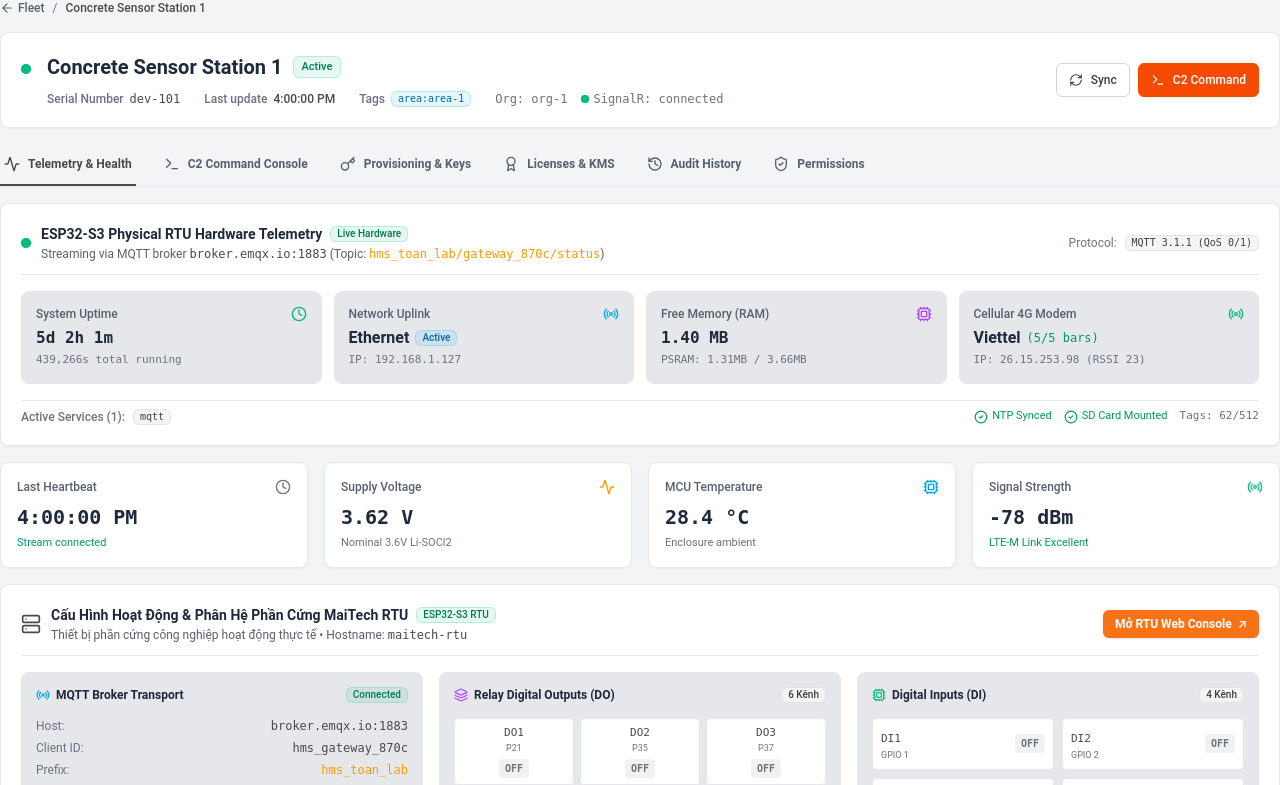
it: DeviceDetailView › switches between tabs when navigation is clicked
Click the button with test id "tab-commands".
click(236, 165)  # box [160,144,312,186]
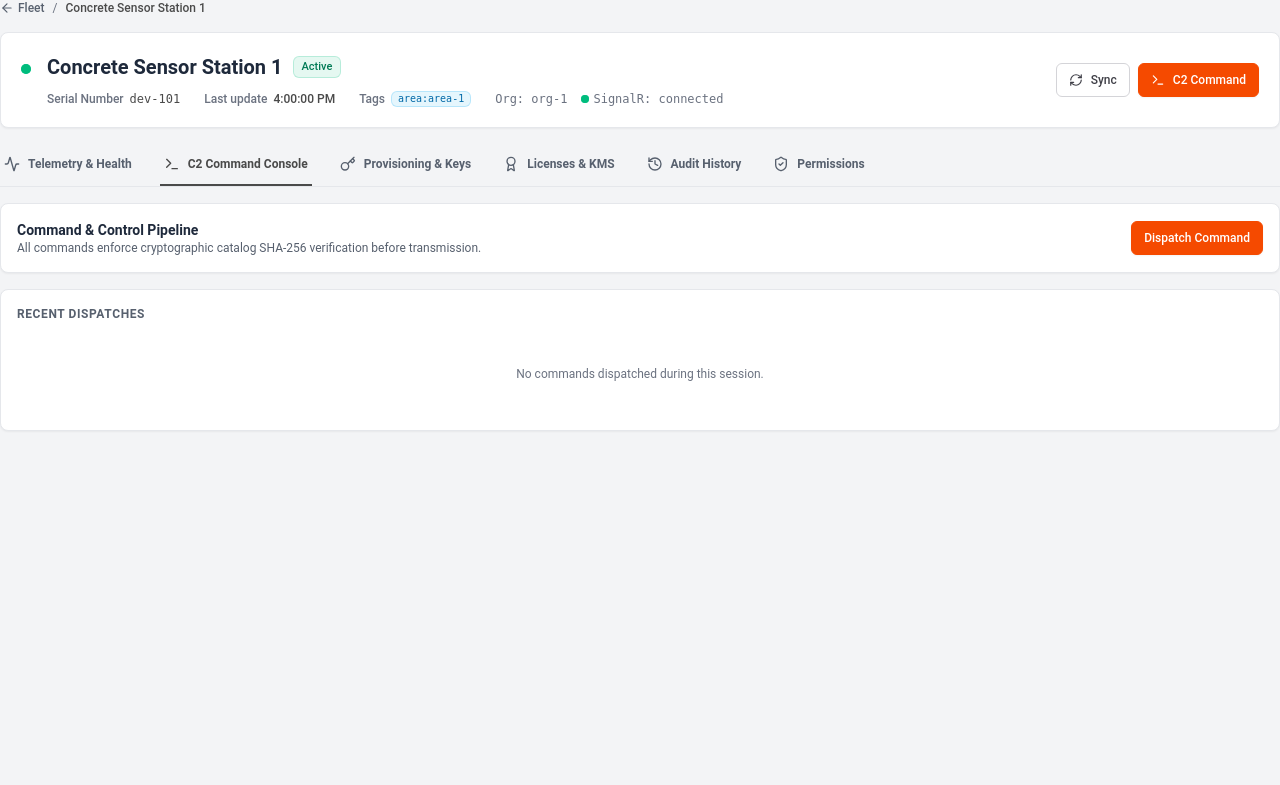
Expected: the text "Command & Control Pipeline" is shown, [17,222,198,238]
Click the button with test id "tab-provisioning".
click(406, 165)  # box [336,144,475,186]
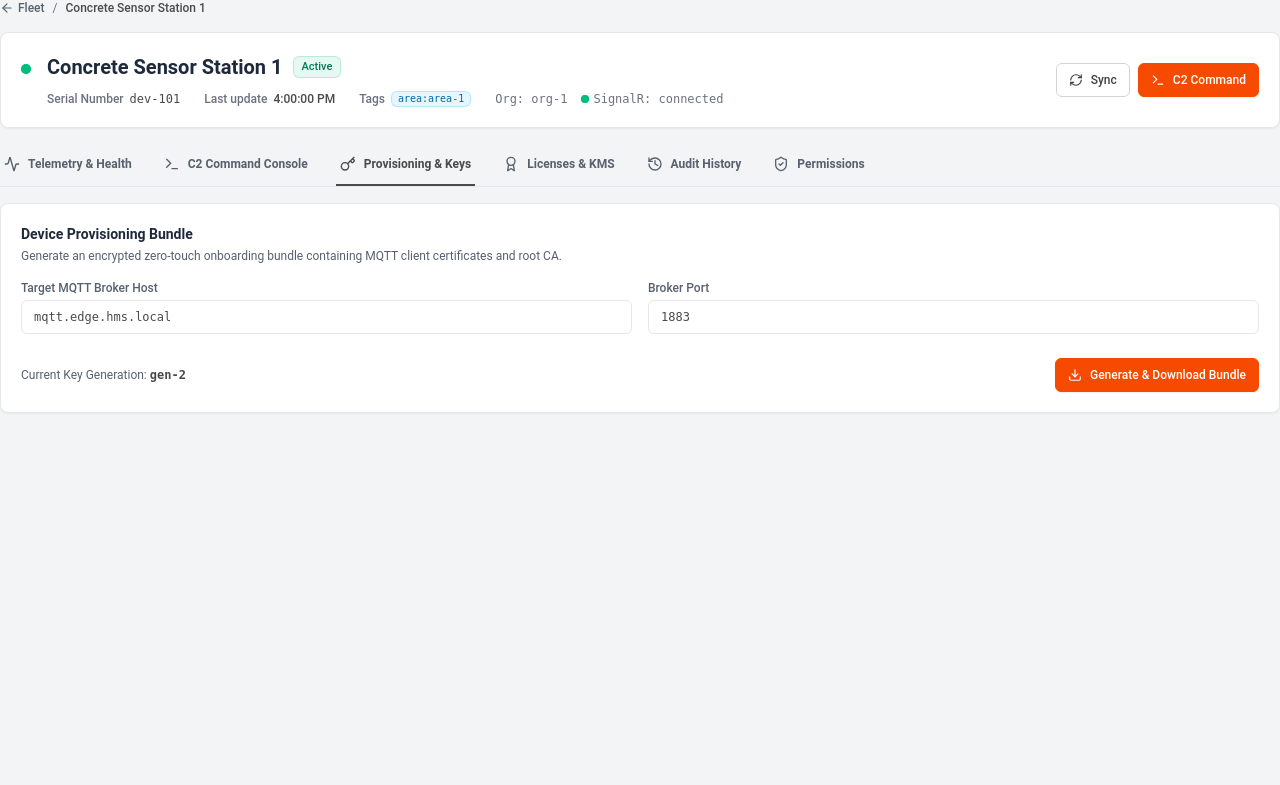
Expected: the text "Device Provisioning Bundle" is shown, [21,226,193,242]
Click the button with test id "tab-licenses".
click(559, 165)  # box [499,144,619,186]
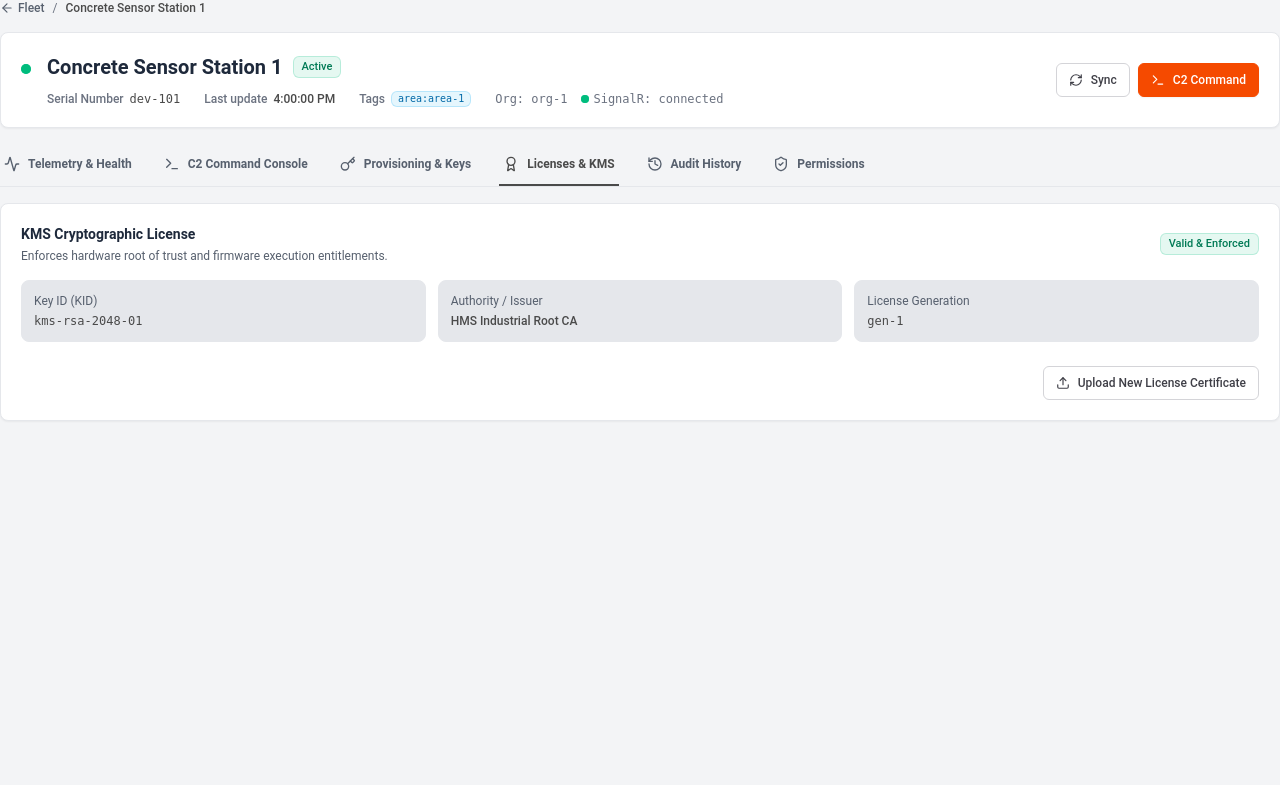
Expected: the text "KMS Cryptographic License" is shown, [21,226,195,242]
Click the button with test id "tab-permissions".
click(819, 165)  # box [769,144,869,186]
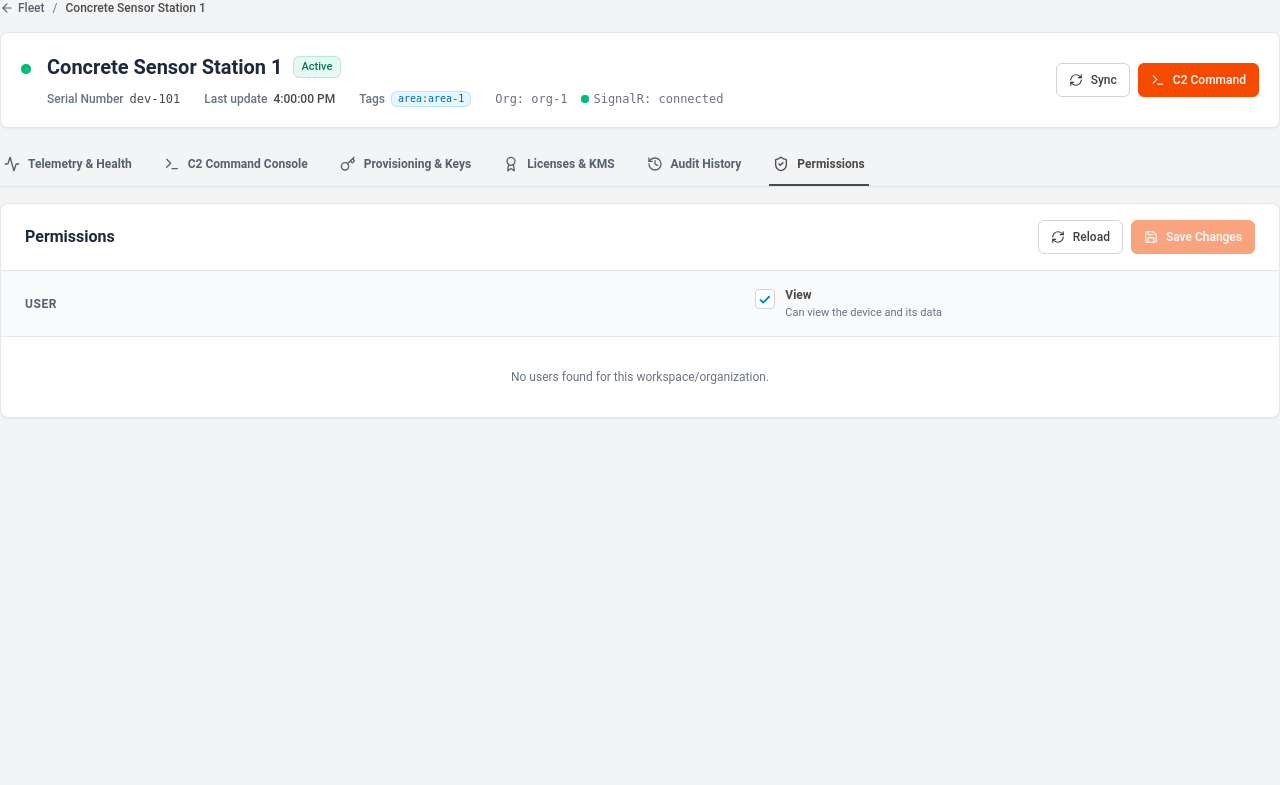
Expected: the text "Permissions" is shown, [797,156,865,172]
Expected: the element with test id "device-permissions-tab" is shown, [0,203,1279,418]
